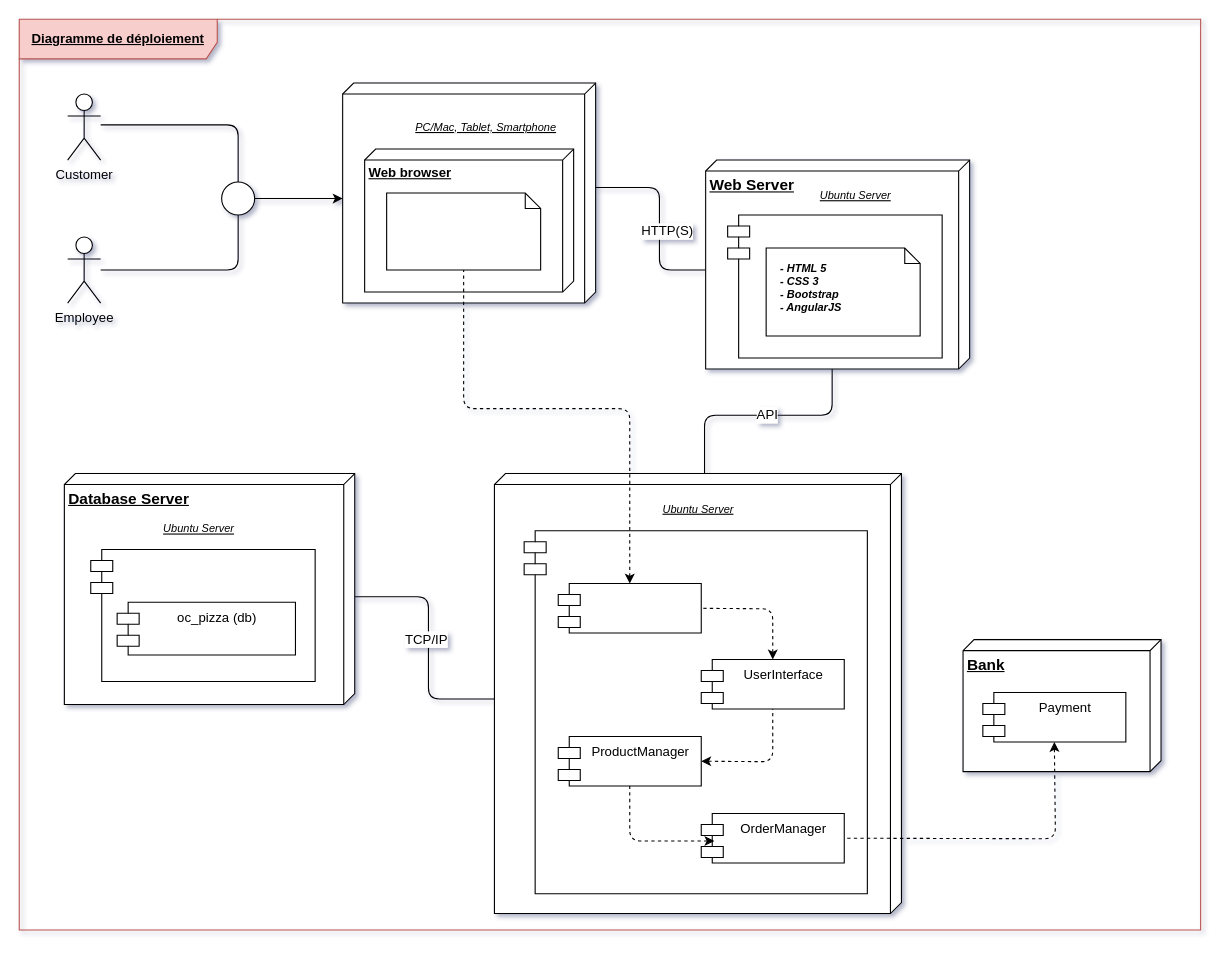
The diagram is 1227 pixels wide and 956 high, and some of its shapes have lost their labels. Each missing label, with the box of its shape:
- Firefox - Internet Explorer - Safari - ...: (386, 192, 541, 270)
Apache: (727, 214, 942, 358)
Application Server: (493, 472, 901, 914)
Device: (342, 82, 596, 303)
PostgreSQL: (90, 548, 315, 681)
Python - Django: (523, 530, 867, 894)
UserManager: (557, 582, 701, 633)
